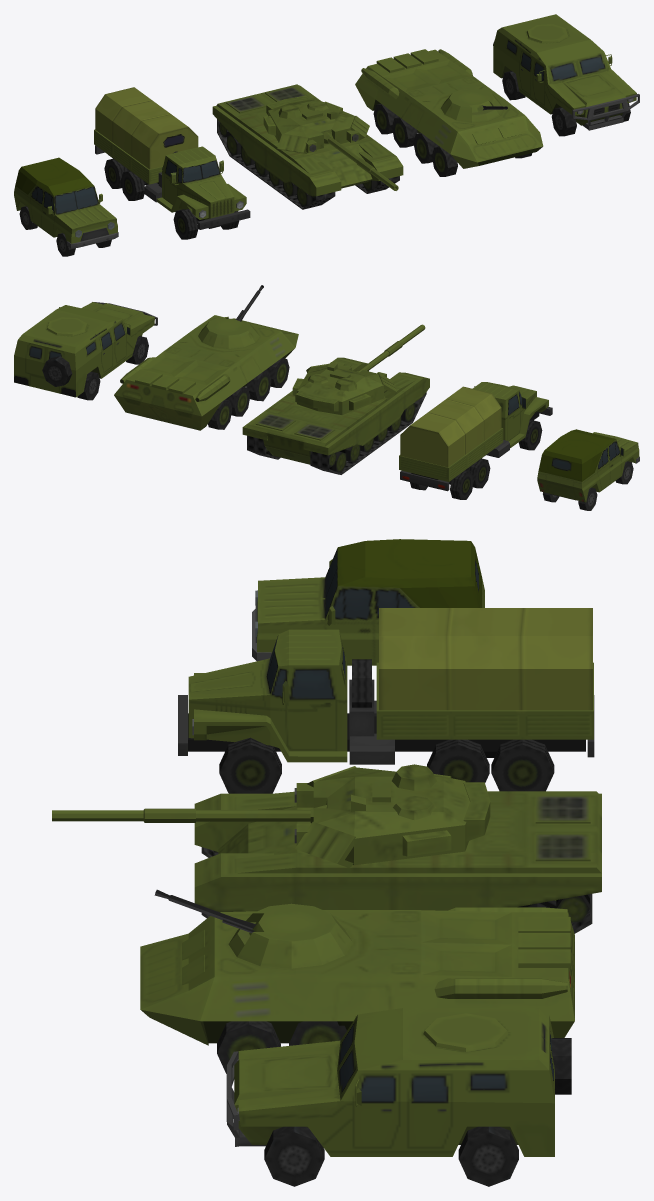
File: low-poly_military_vehicles_pack.glb
3 views of the same model, one above another, from view 1: azimuth 30°, elevation 25°; view 2: azimuth 150°, elevation 25°; view 3: azimuth 270°, elevation 25° (orthographic). The views are drawn at different scales.
Visible parts, largest first — view 1: T-90, BTR, Ural, Tiger, UAZ; view 2: T-90, BTR, Ural, Tiger, UAZ; view 3: Ural, T-90, BTR, Tiger, UAZ.
Part boxes in pixels (x1,y1,x2,y2): T-90: (212,84,403,209); BTR: (355,49,543,176); Ural: (94,87,250,239); Tiger: (493,14,639,136); UAZ: (14,157,118,256); T-90: (242,324,429,474); BTR: (114,285,298,430); Ural: (399,382,552,499); Tiger: (14,302,157,400); UAZ: (537,429,639,510); Ural: (178,608,594,793); T-90: (52,764,601,933); BTR: (140,889,574,1073); Tiger: (226,1008,571,1186); UAZ: (252,539,484,665).
Bounding box in the file's own units: 22.69 × 3.04 × 9.63.
Materials: 5 (5 with a texture image).
